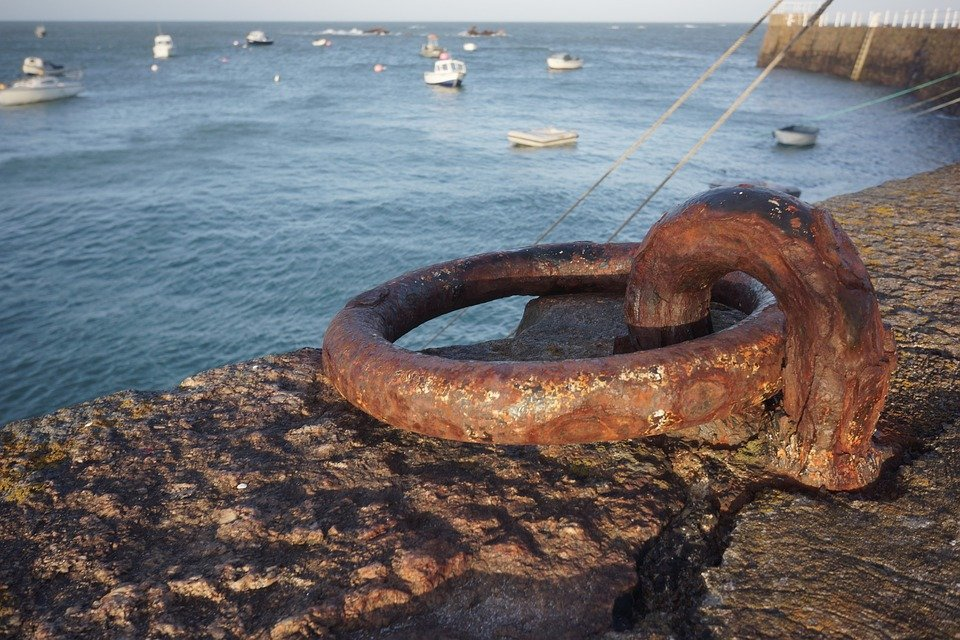rust: (387, 356, 749, 438), (688, 200, 856, 352), (358, 262, 490, 327)
